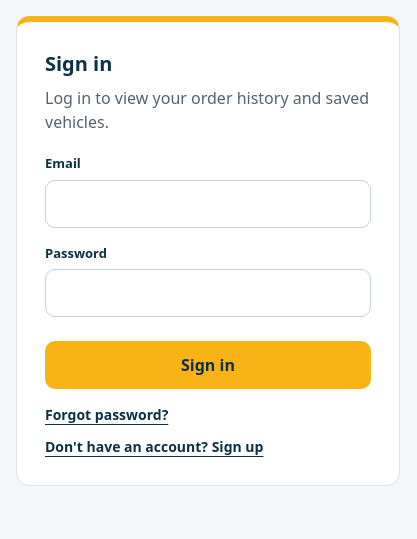
Test: login page › a wrong code or password shows the server's reason and keeps the form; Back from the code returns to the password
Type "sam@example.com" into the field labelled "Email" at (208, 204), box 45,180 -> 371,228
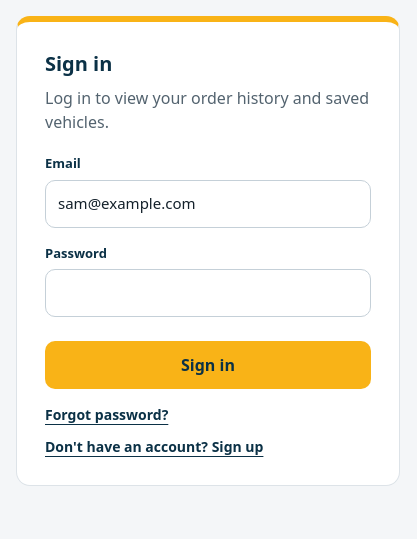
Type "pw123456" into the password field labelled "Password" at (208, 293), box 45,269 -> 371,317
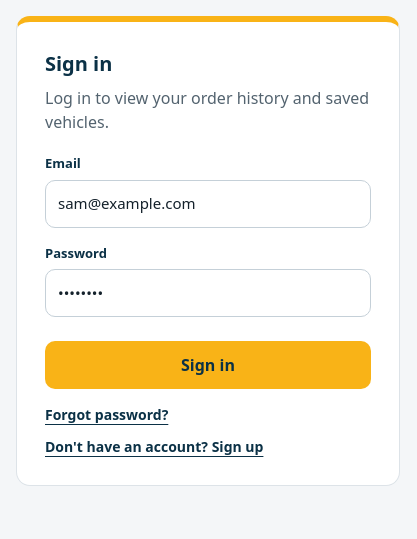
Click the button "Sign in" at (208, 365), box 45,341 -> 371,389
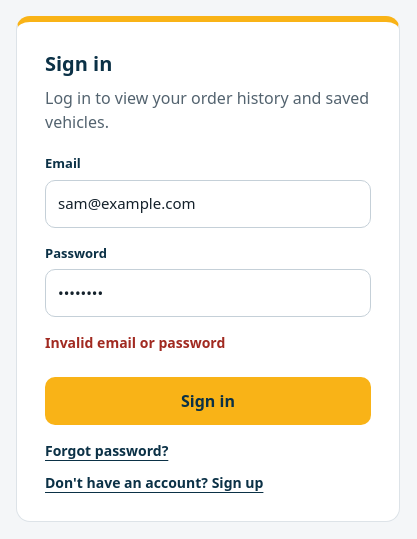
expect the message reads "Invalid email or password": met, box 45,333 -> 225,352
